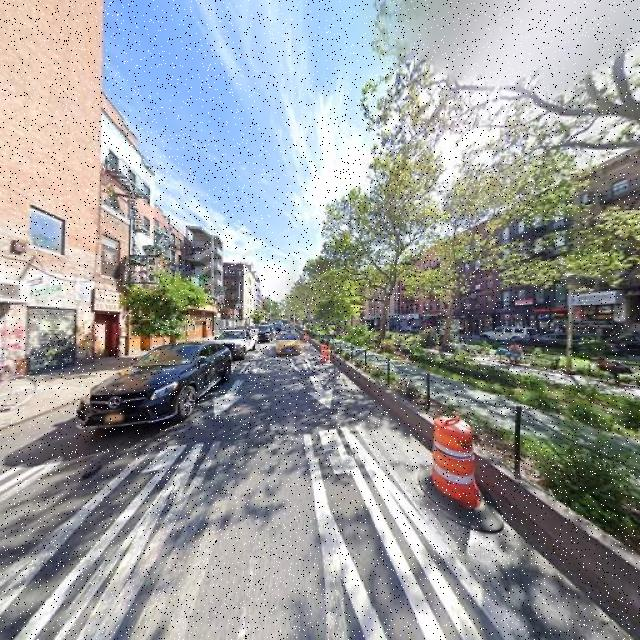Building: (1, 1, 107, 367), (575, 148, 640, 353), (498, 184, 569, 347)
